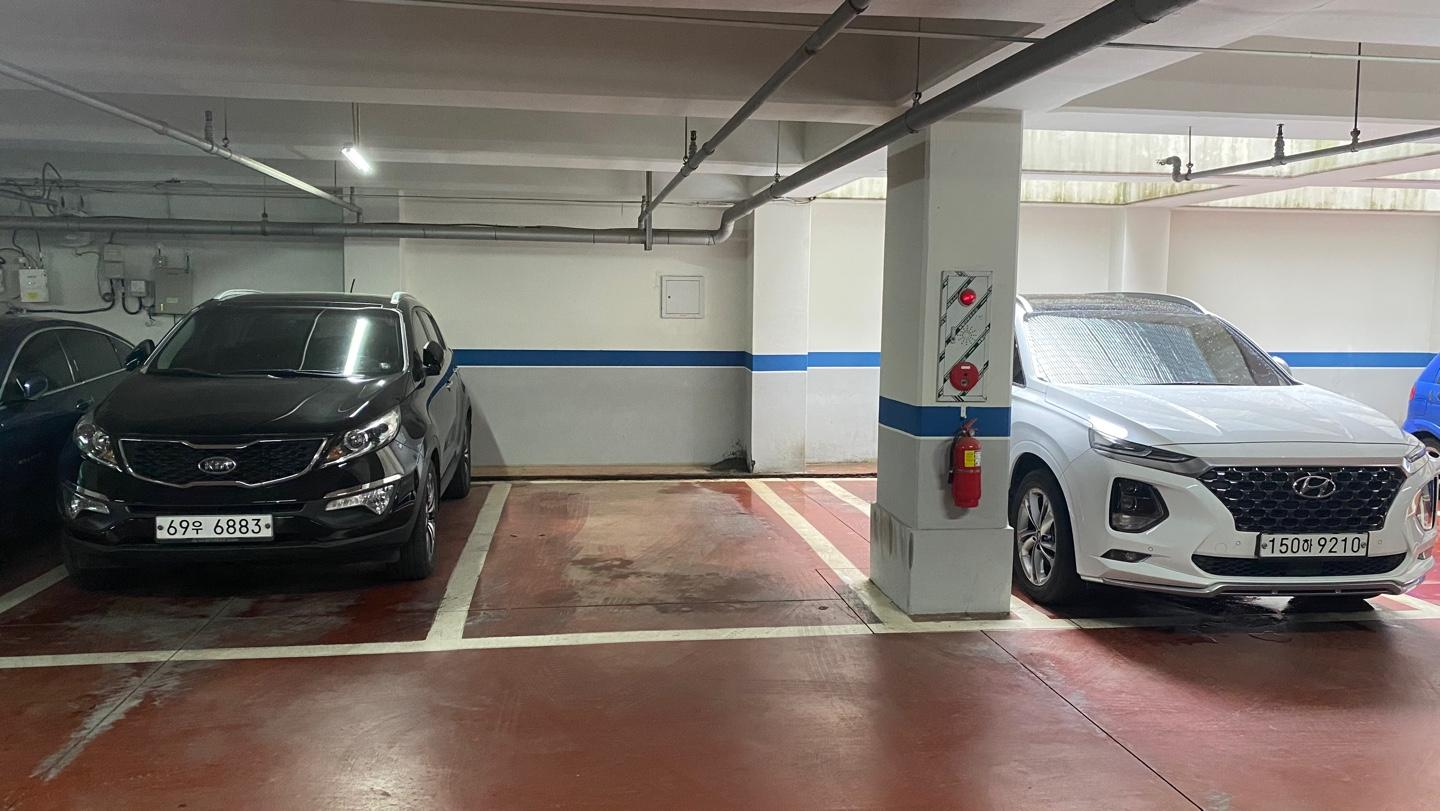empty: (422, 472, 925, 650)
occupied: (1017, 292, 1436, 604), (68, 291, 452, 575)
